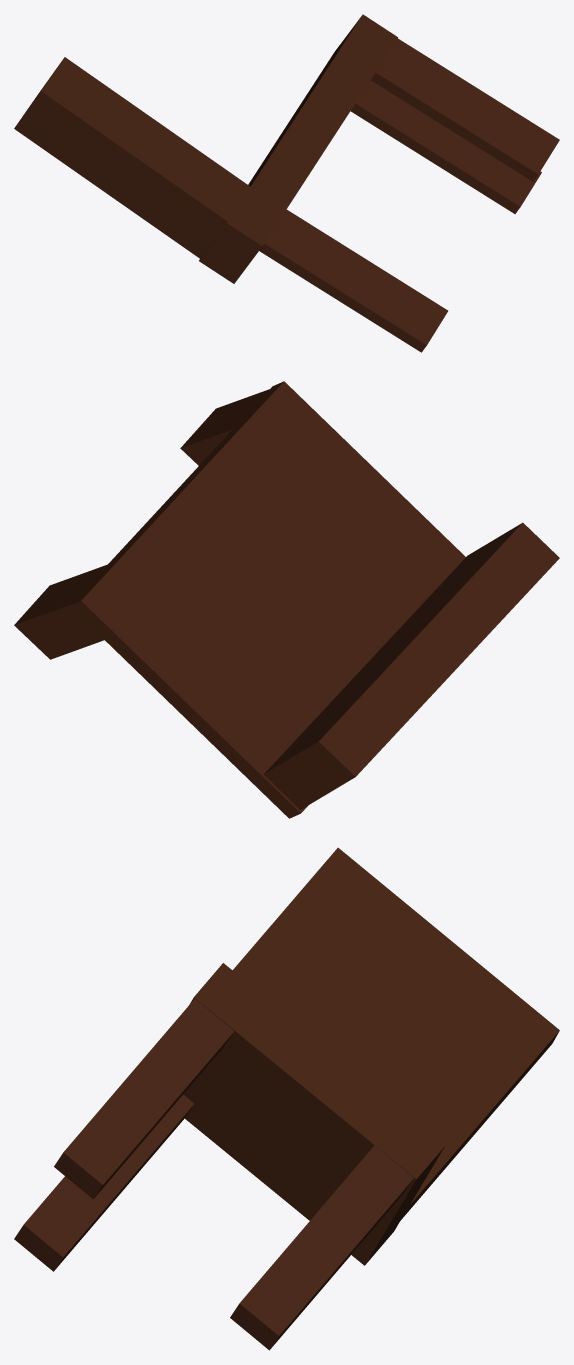
The model's file is chairج.fbx.
3 renders of one model, top to bottom at view 1: azimuth 30°, elevation 25°; view 2: azimuth 150°, elevation 25°; view 3: azimuth 270°, elevation 25°, orthographic. The views are drawn at different scales.
Visible parts, largest first — view 1: Cube.005, Cube, Cube.001, Cube.003, Cube.002; view 2: Cube, Cube.005, Cube.002, Cube.001; view 3: Cube.005, Cube, Cube.002, Cube.001, Cube.003.
Boxes of the visible parts, x1,y1,x2,y2 form: Cube.005: (14,57,251,258); Cube: (199,14,397,283); Cube.001: (371,38,559,181); Cube.003: (259,209,448,352); Cube.002: (350,80,541,213); Cube: (70,381,465,818); Cube.005: (264,522,559,809); Cube.002: (14,564,107,659); Cube.001: (180,389,269,465); Cube.005: (232,847,559,1220); Cube: (183,963,445,1265); Cube.002: (230,1145,413,1350); Cube.001: (54,999,234,1199); Cube.003: (14,1094,194,1271).
Bounding box in the file's own units: 412 × 249 × 362.
